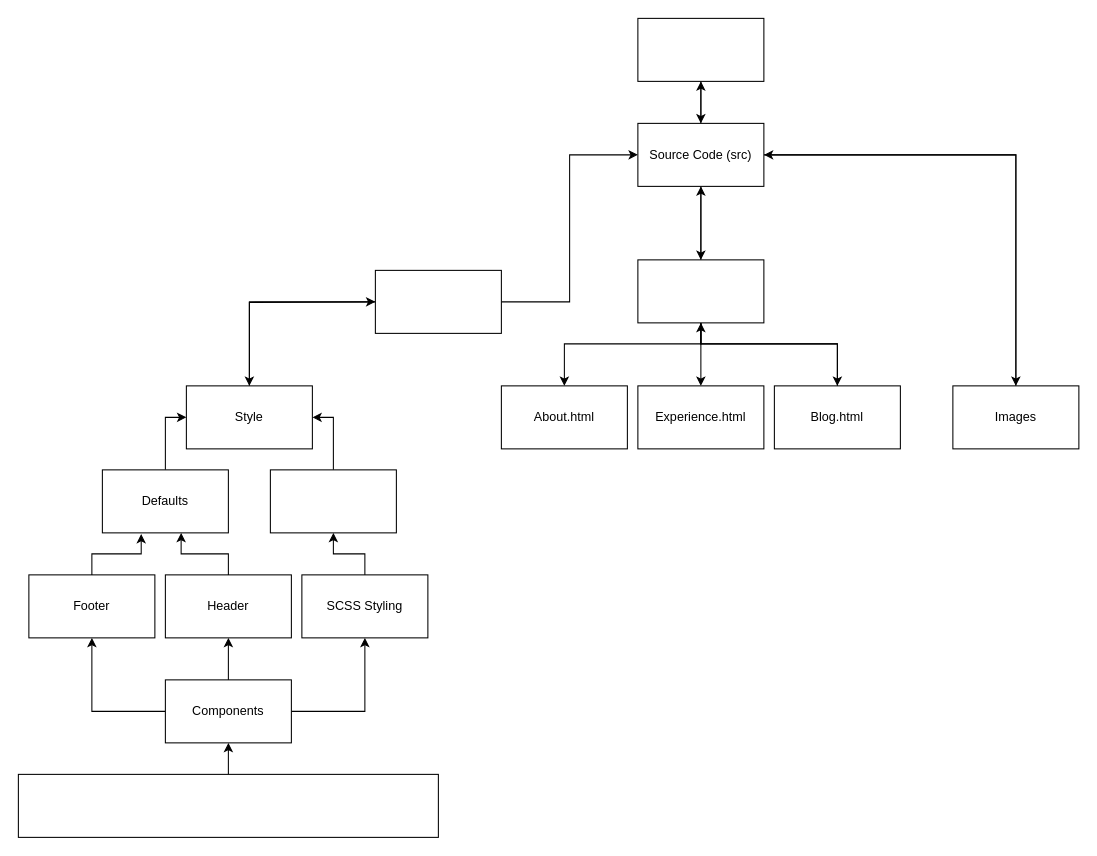
This 1097x856 diagram has some shape labels left out. The box of each missing label's shape, as (x1, y1, x2, y2) in pixels:
Contains Animations, Colors, Fonts and Mixins: (17, 773, 438, 837)
Index / Home Page: (637, 17, 764, 81)
Main.CSS: (374, 269, 501, 333)
Pages: (637, 259, 764, 323)
Pages.scss: (269, 469, 396, 533)
